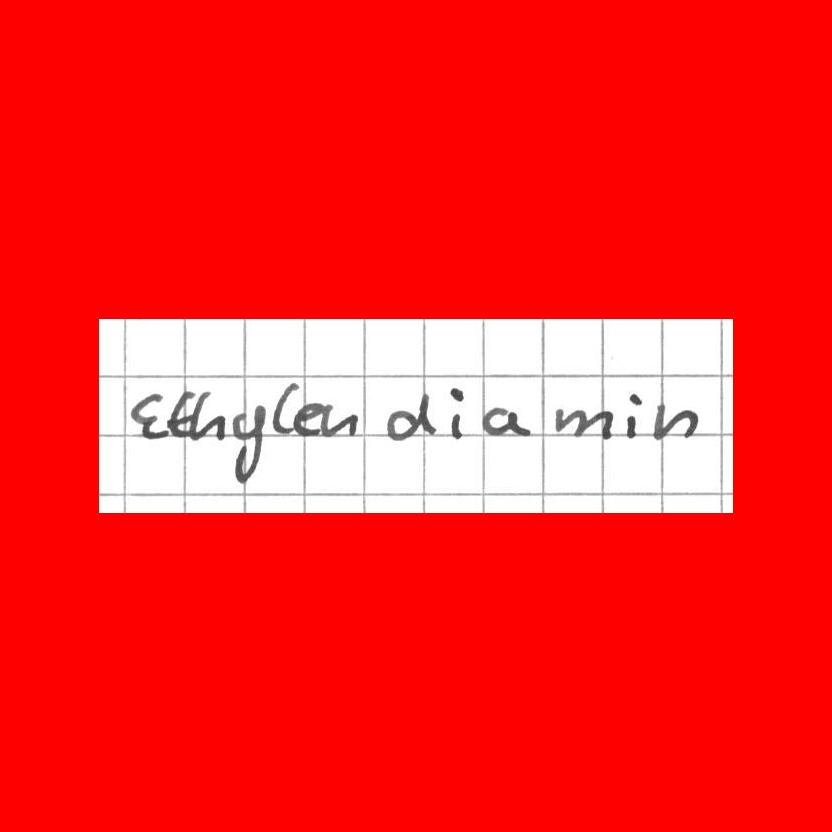Char: (230, 403, 268, 485), (384, 389, 436, 441), (650, 397, 698, 442), (128, 390, 168, 439), (479, 404, 533, 440), (556, 406, 610, 440), (187, 389, 224, 438), (165, 387, 195, 440), (322, 401, 360, 440), (273, 381, 296, 436), (292, 400, 324, 438), (446, 384, 466, 441), (623, 390, 643, 440)
